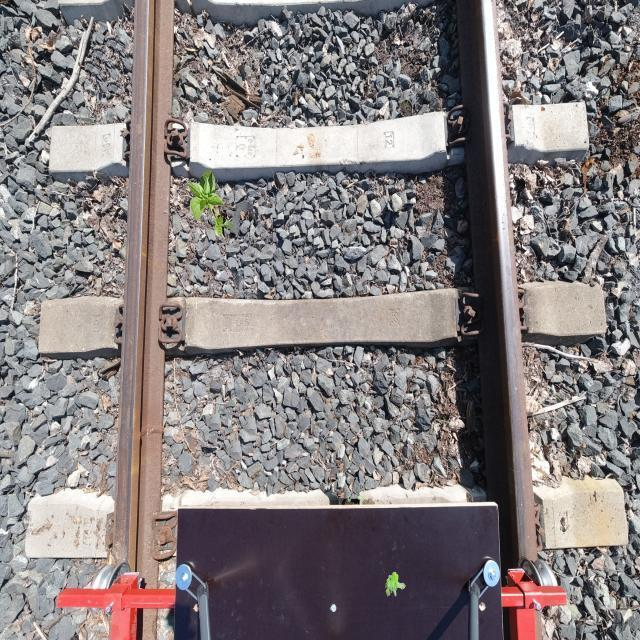Plant: (186, 169, 234, 240), (385, 572, 406, 597)
